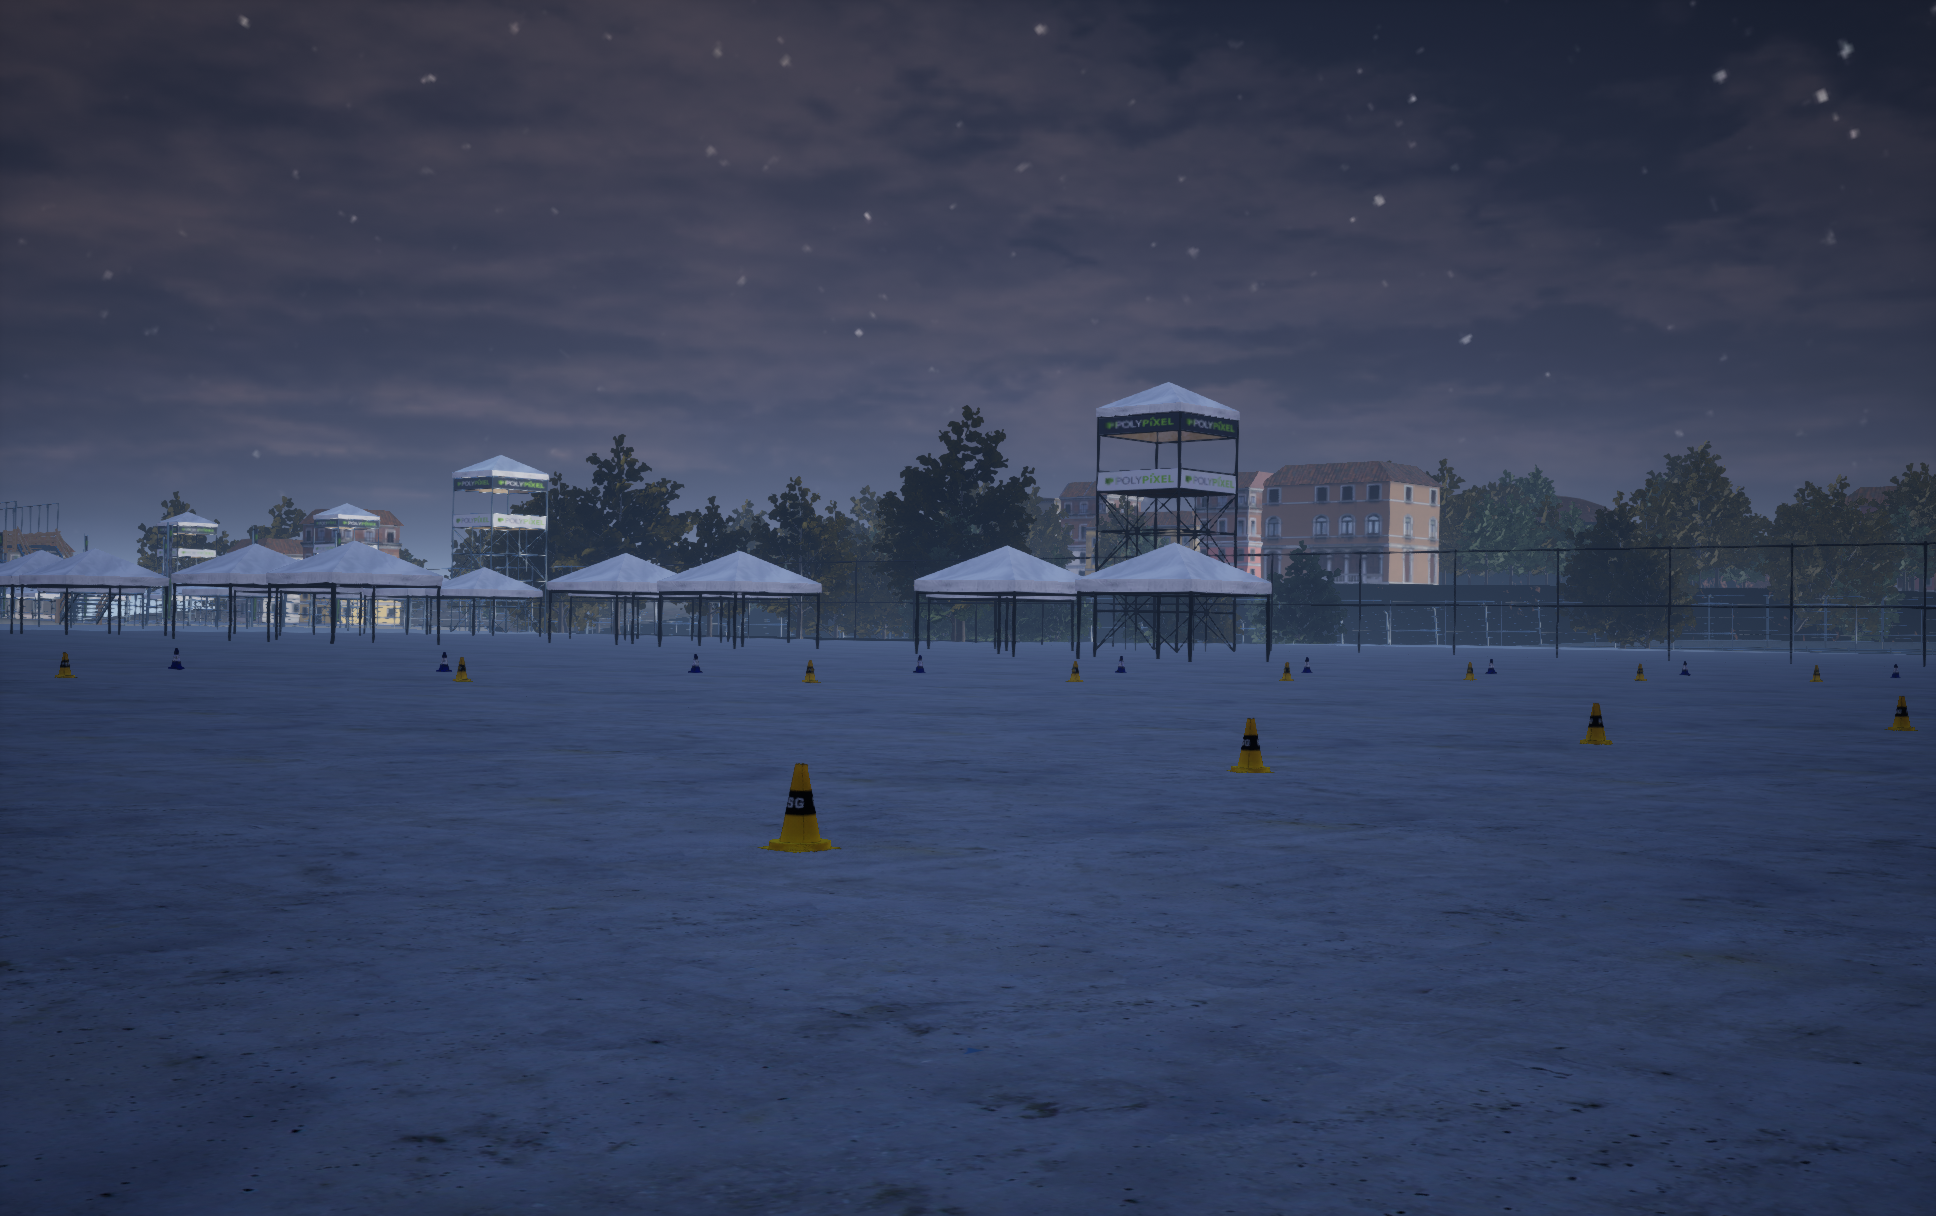blue: (756, 764, 841, 852), (1226, 719, 1273, 772), (1579, 703, 1612, 744), (1884, 696, 1916, 730), (55, 651, 77, 677), (452, 657, 472, 681), (803, 660, 820, 682), (1065, 661, 1083, 681), (1279, 663, 1293, 679)
yellow: (168, 649, 184, 670), (436, 651, 451, 671), (688, 654, 702, 672), (913, 656, 925, 672)
